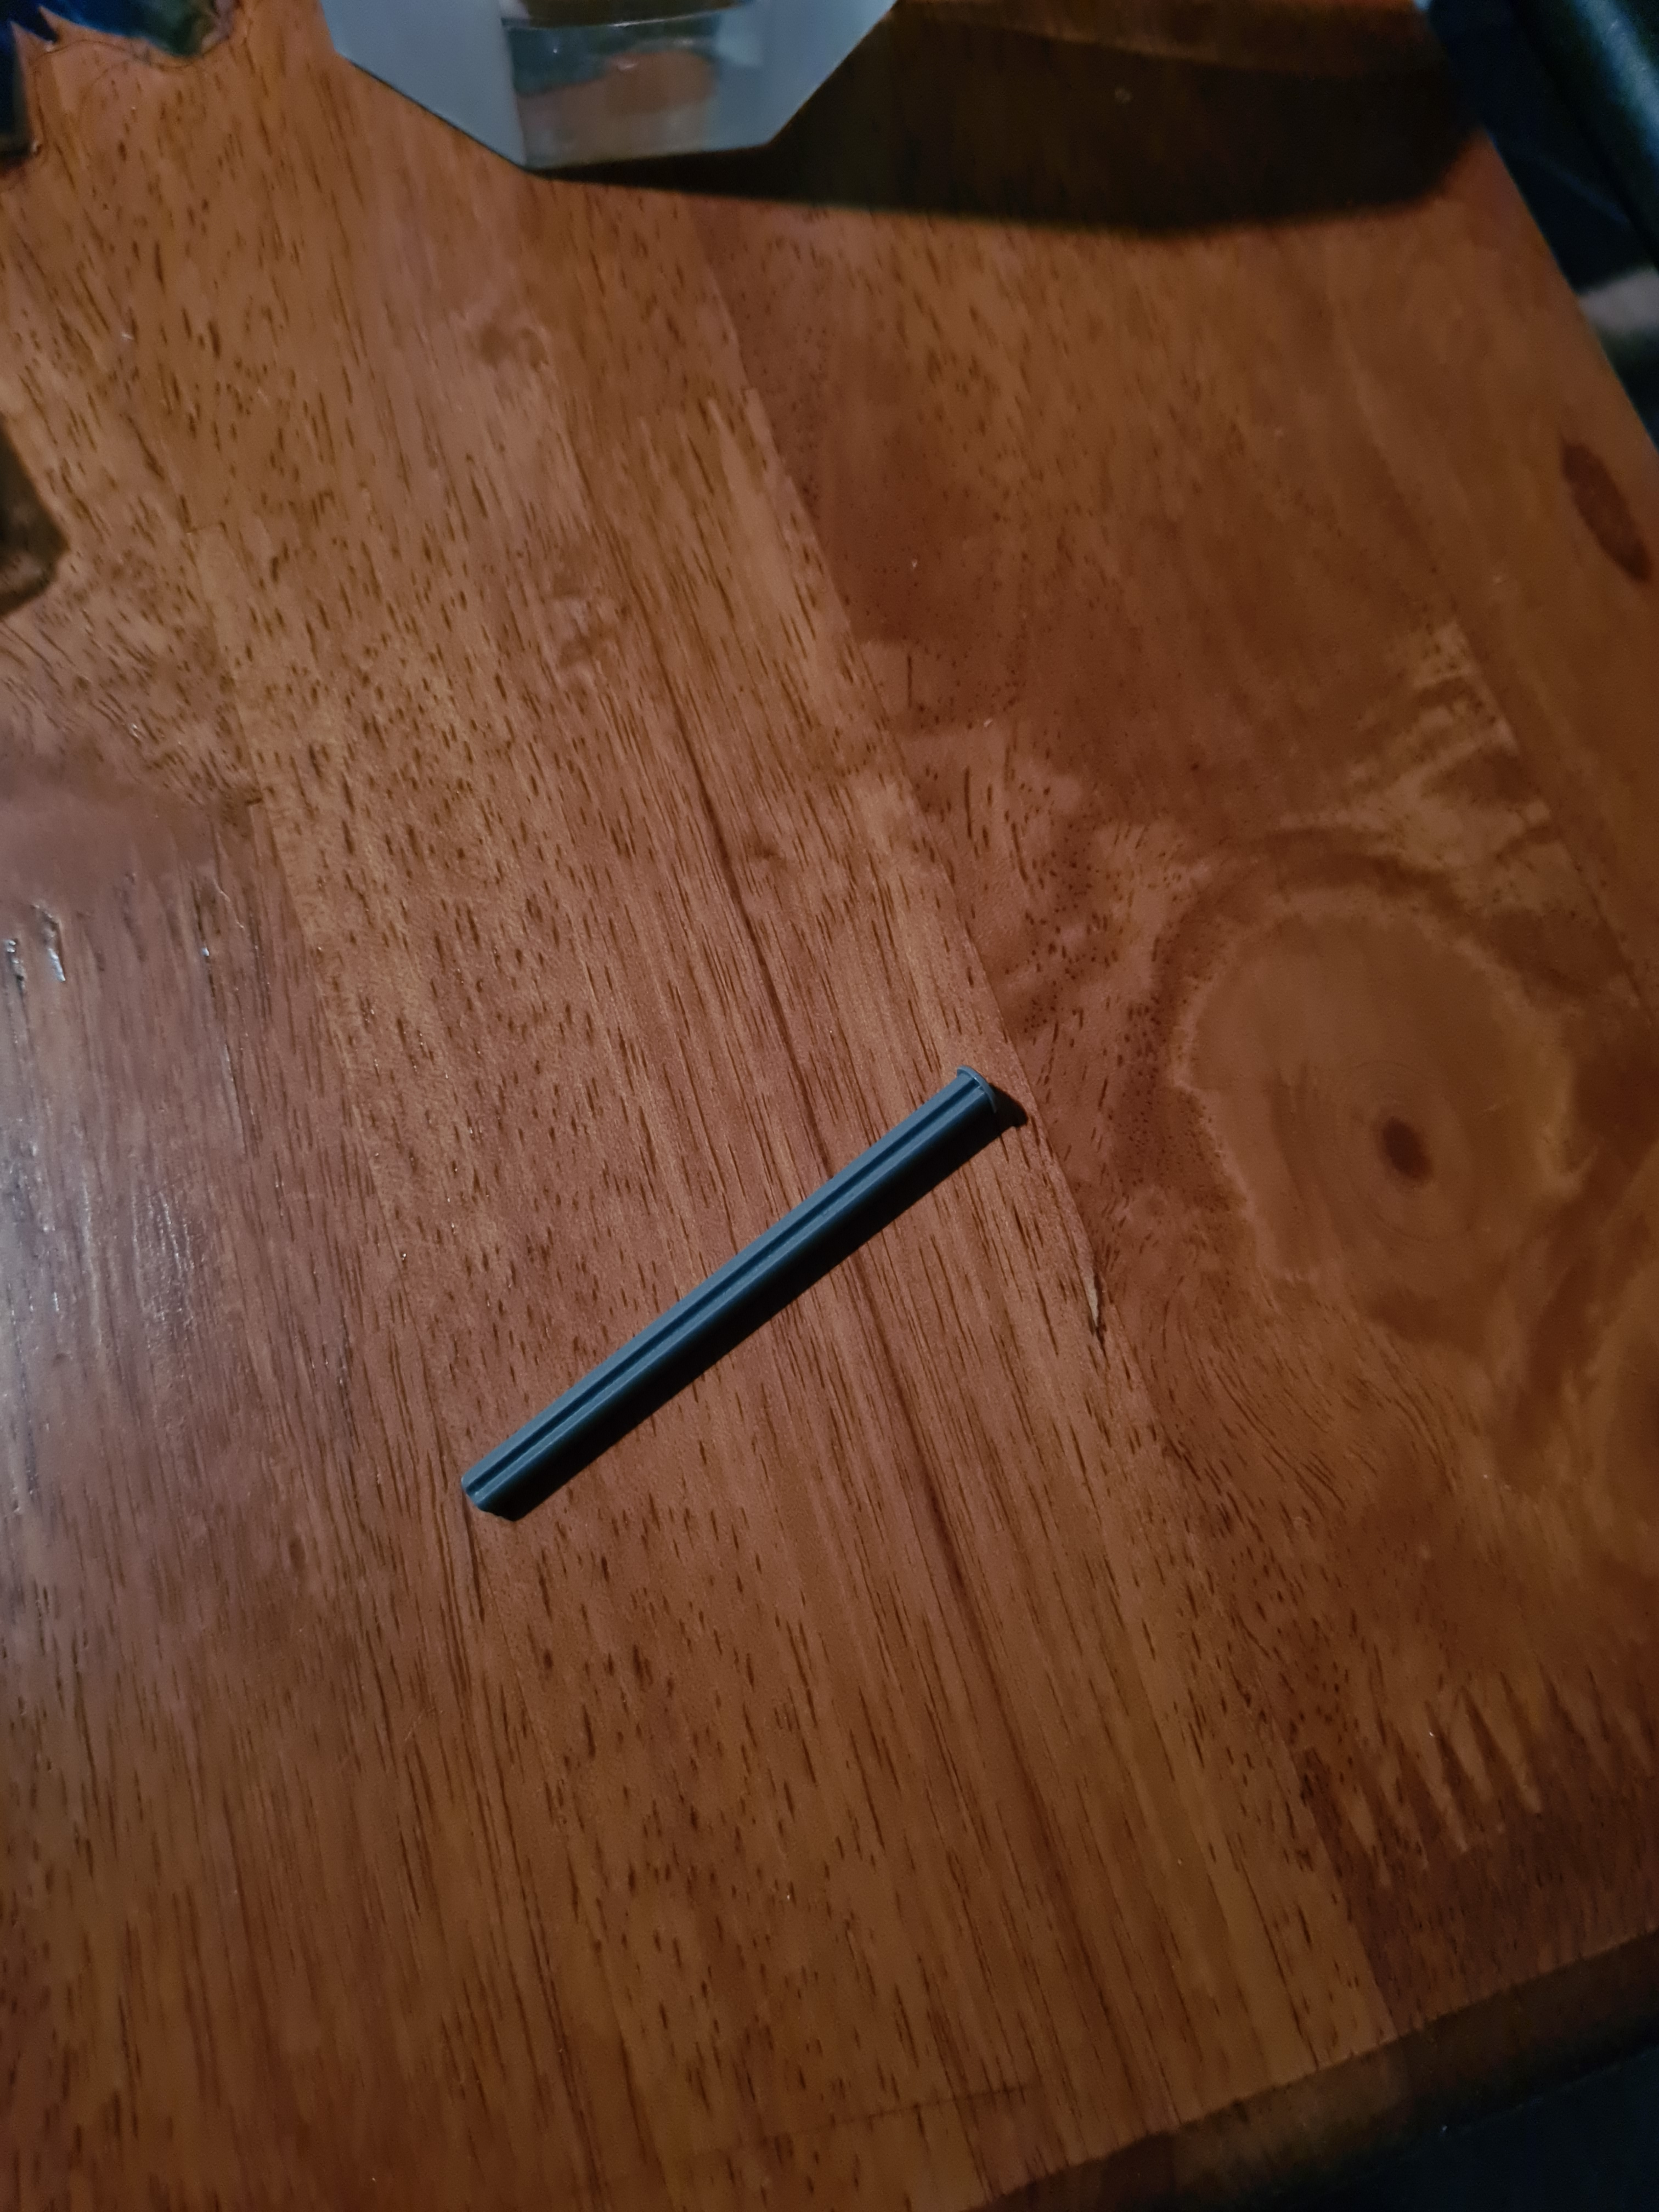Grau_lang: (427, 1033, 1032, 1547)
